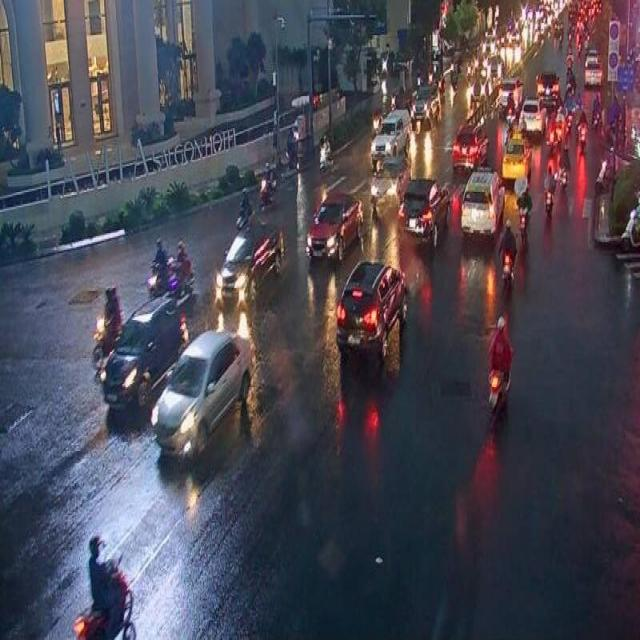car: (150, 328, 255, 456), (100, 297, 187, 410), (336, 260, 406, 360), (306, 189, 364, 262), (400, 177, 450, 248), (461, 168, 505, 236)
motorcycle: (488, 314, 514, 417), (498, 219, 518, 288)
